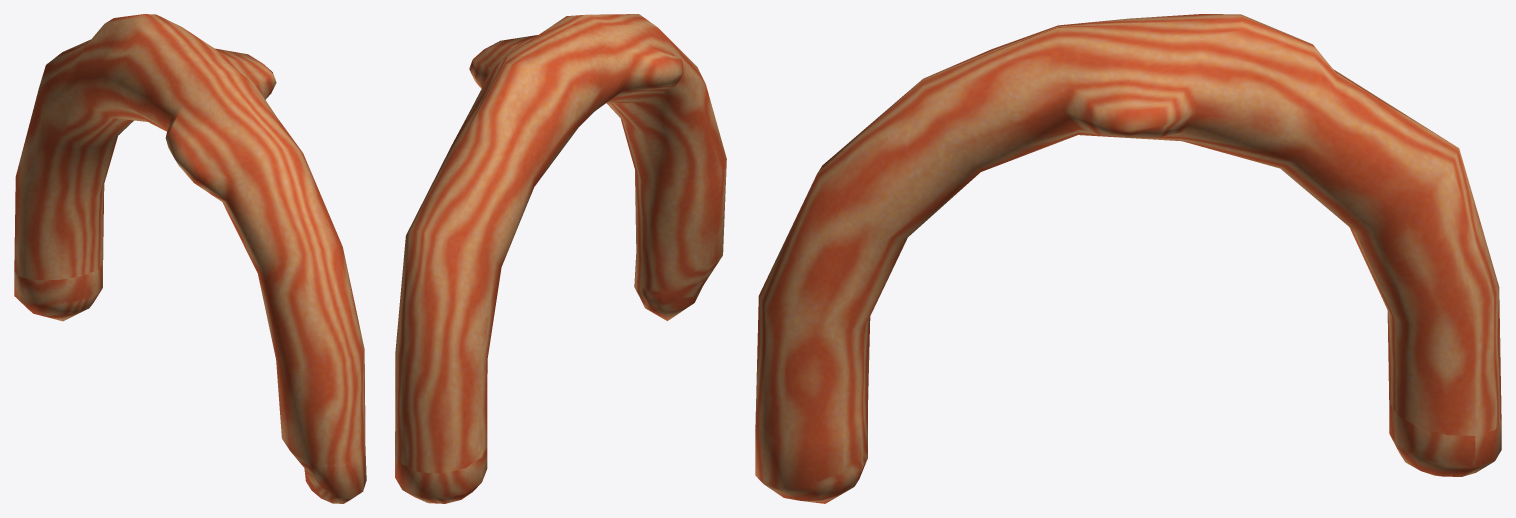
File: Tree.fbx_Branch_U.fbx
The picture shows the model from 3 angles, left to right: view 1: azimuth 30°, elevation 25°; view 2: azimuth 150°, elevation 25°; view 3: azimuth 270°, elevation 25°; orthographic projection. The views are drawn at different scales.
Parts seen in each view (by area): view 1: Banch_U; view 2: Banch_U; view 3: Banch_U.
Part boxes in pixels (x1=…): Banch_U: x1=14, y1=14, x2=366, y2=503; Banch_U: x1=395, y1=14, x2=726, y2=503; Banch_U: x1=755, y1=14, x2=1501, y2=503.
Bounding box in the file's own units: 581 × 1406 × 2000.
